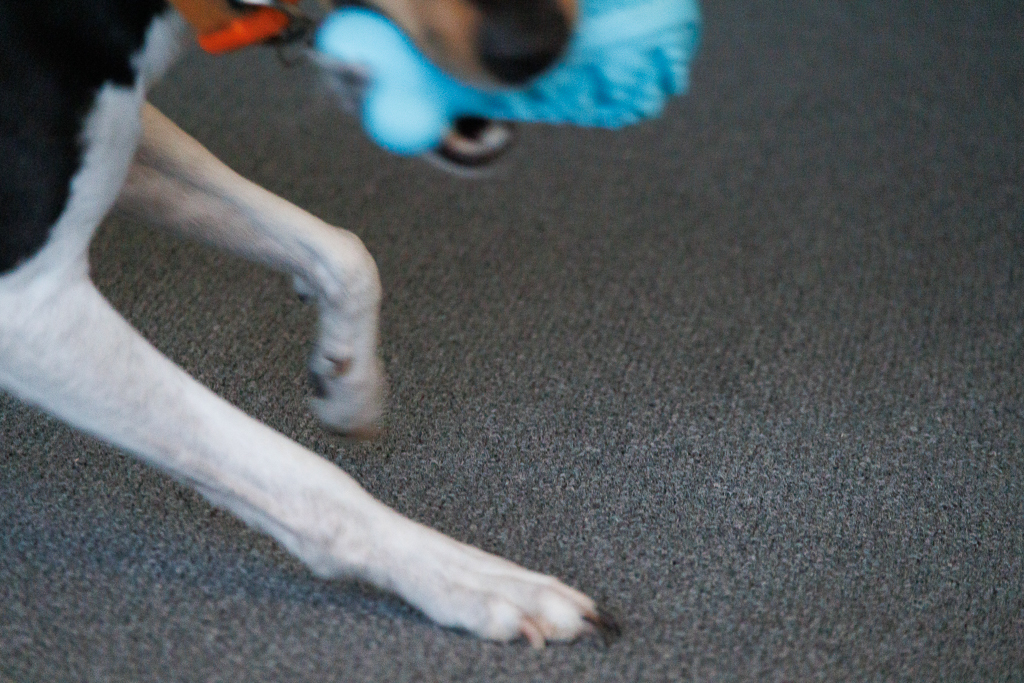Dog: (0, 0, 633, 664)
